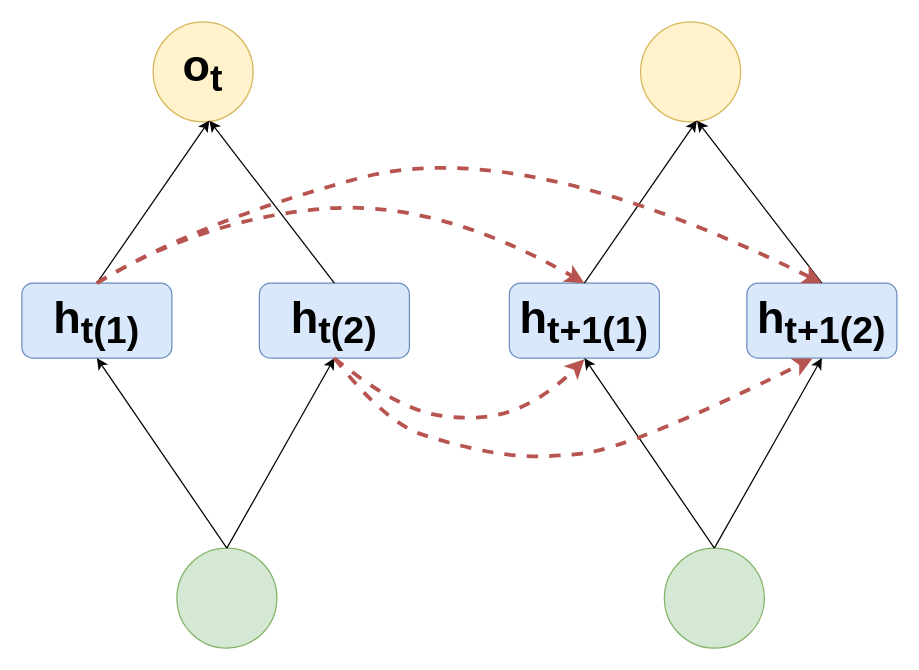
Some shapes in this 919 by 670 pixel diagram are drawn without their labels. Each missing label, with the centre of its shape:
"o t+1" goes at (x=690, y=71).
"x t" goes at (x=226, y=597).
"x t+1" goes at (x=713, y=597).
